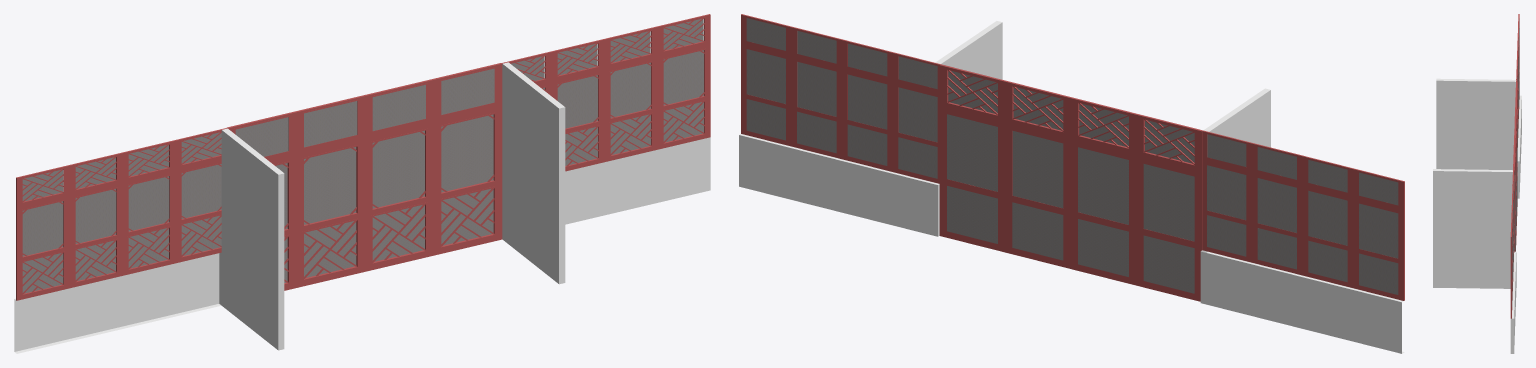
File: near.gltf
The picture shows the model from 3 angles, left to right: view 1: azimuth 30°, elevation 25°; view 2: azimuth 150°, elevation 25°; view 3: azimuth 270°, elevation 25°; orthographic projection. The views are drawn at different scales.
Size of the model in its own units: 16.39 by 4 by 2.76.
